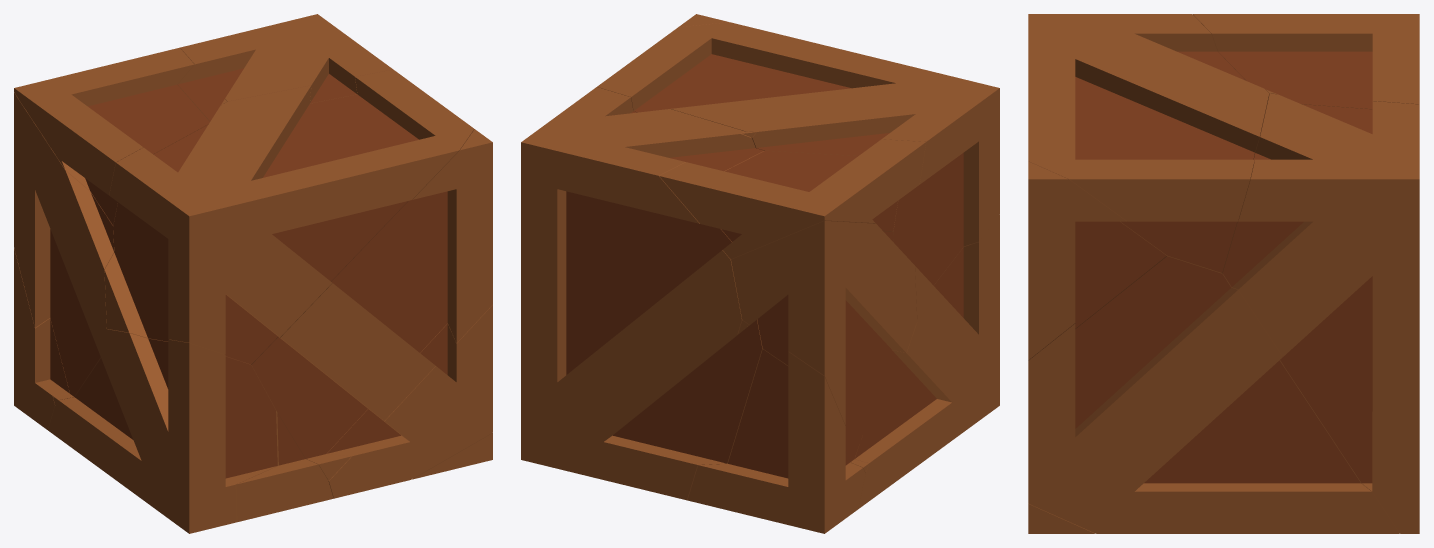
Rendered from SM_WoodBox_Fract.fbx.
3 renders of one model, left to right at view 1: azimuth 30°, elevation 25°; view 2: azimuth 150°, elevation 25°; view 3: azimuth 270°, elevation 25°, orthographic. The views are drawn at different scales.
Visible parts, largest first — view 1: Cube.002_cell.005, Cube.002_cell.002, Cube.002_cell, Cube.002_cell.001, Cube.002_cell.006, Cube.002_cell.004, Cube.002_cell.003, Cube.002_cell.008, Cube.002_cell.009, Cube.002_cell.007; view 2: Cube.002_cell.003, Cube.002_cell.005, Cube.002_cell.001, Cube.002_cell, Cube.002_cell.008, Cube.002_cell.006; view 3: Cube.002_cell.004, Cube.002_cell.003, Cube.002_cell.005, Cube.002_cell.006, Cube.002_cell.002, Cube.002_cell.007.
Boxes of the visible parts, <box> form: Cube.002_cell.005: <box>104,69,473,364</box>; Cube.002_cell.002: <box>251,129,492,480</box>; Cube.002_cell: <box>48,329,278,533</box>; Cube.002_cell.001: <box>14,92,114,404</box>; Cube.002_cell.006: <box>14,47,209,225</box>; Cube.002_cell.004: <box>326,305,492,498</box>; Cube.002_cell.003: <box>177,14,392,121</box>; Cube.002_cell.008: <box>14,248,69,429</box>; Cube.002_cell.009: <box>236,413,333,521</box>; Cube.002_cell.007: <box>412,433,492,479</box>; Cube.002_cell.003: <box>521,87,764,500</box>; Cube.002_cell.005: <box>597,22,999,320</box>; Cube.002_cell.001: <box>731,221,917,473</box>; Cube.002_cell: <box>854,215,999,508</box>; Cube.002_cell.008: <box>687,349,865,533</box>; Cube.002_cell.006: <box>659,139,926,259</box>; Cube.002_cell.004: <box>1028,256,1399,533</box>; Cube.002_cell.003: <box>1222,93,1419,533</box>; Cube.002_cell.005: <box>1028,14,1269,273</box>; Cube.002_cell.006: <box>1193,14,1419,109</box>; Cube.002_cell.002: <box>1028,161,1166,360</box>; Cube.002_cell.007: <box>1028,503,1094,533</box>.
Size of the model in its own units: 200 by 200 by 200.
